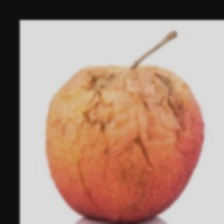apple: (37, 17, 175, 190)
